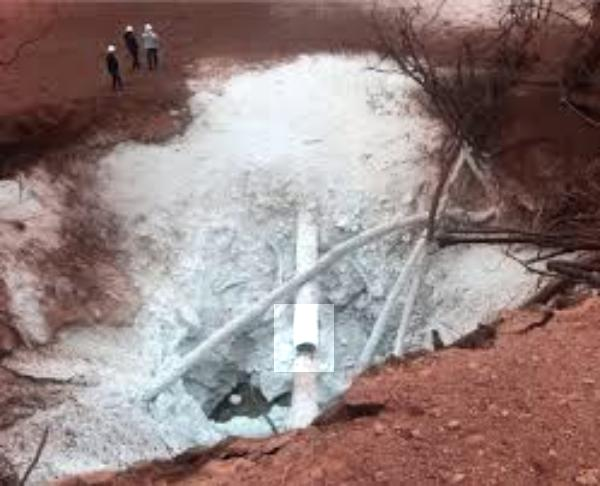crack: (274, 304, 334, 372)
